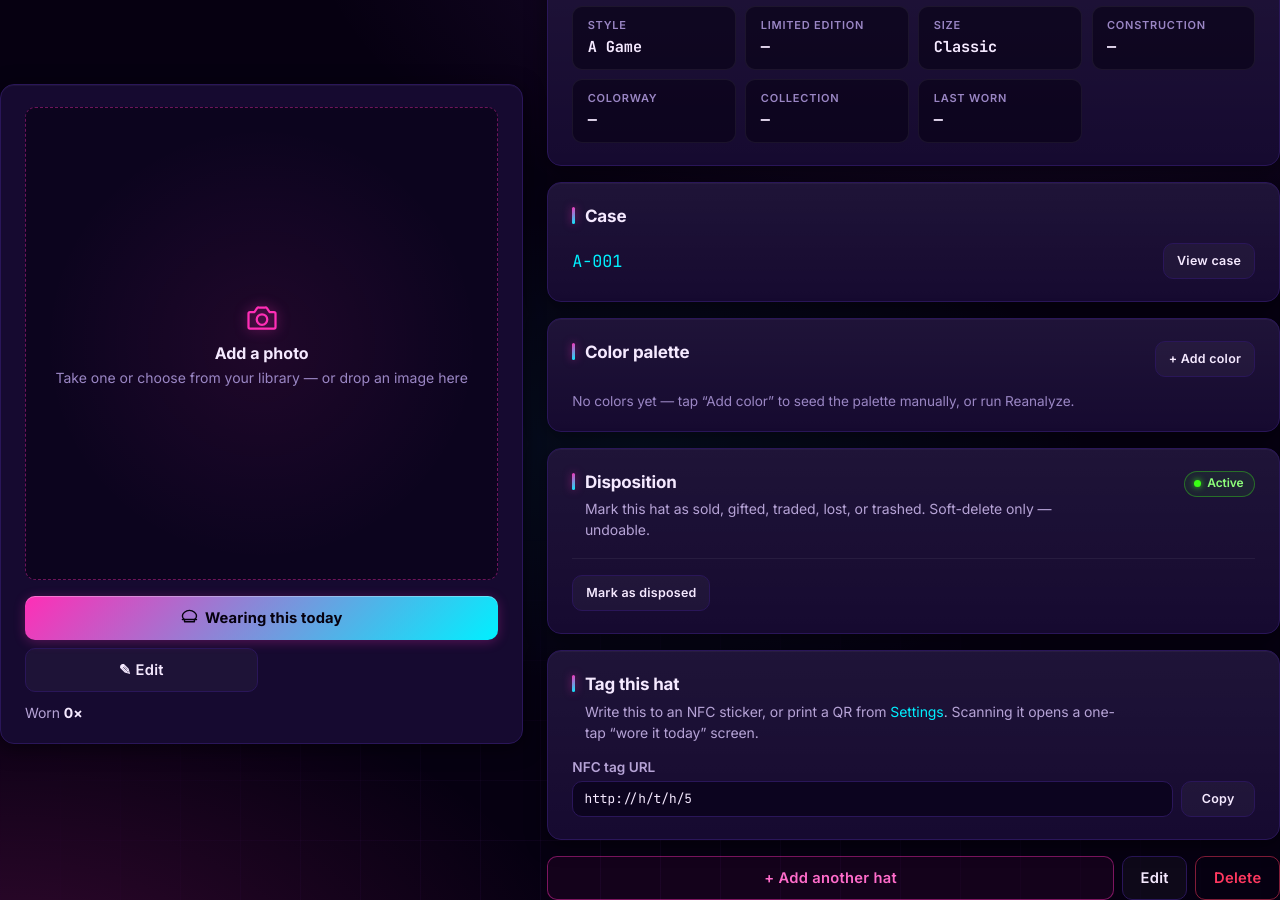
Test case: HatDetailPage — delete › deletes once confirmed, says so, and returns to the list
(page scrolled)
Click the button "Delete".
click(1238, 878)  # box [1195,856,1279,899]
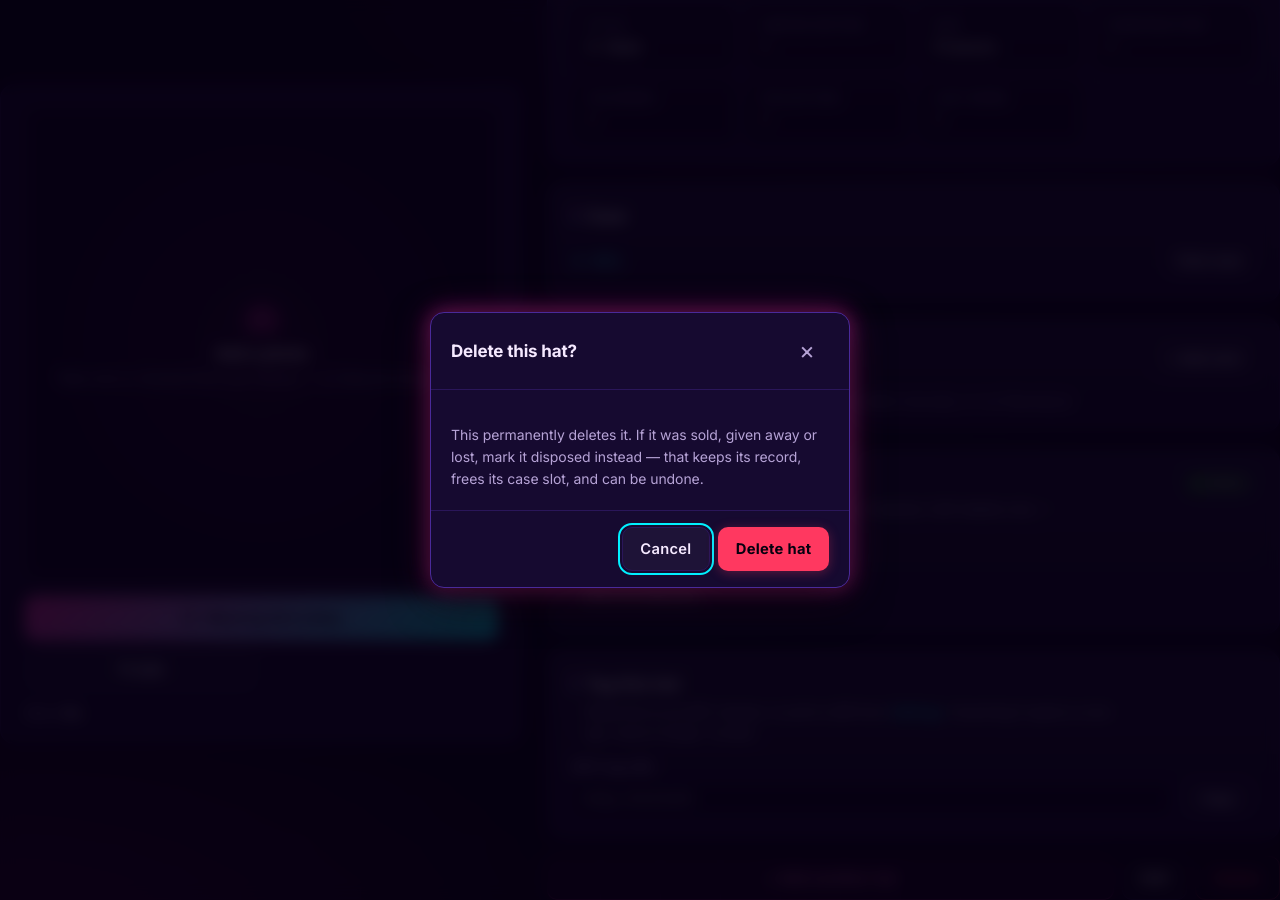
Click the button "Delete hat".
click(774, 548)  # box [718,526,829,570]
(page scrolled)
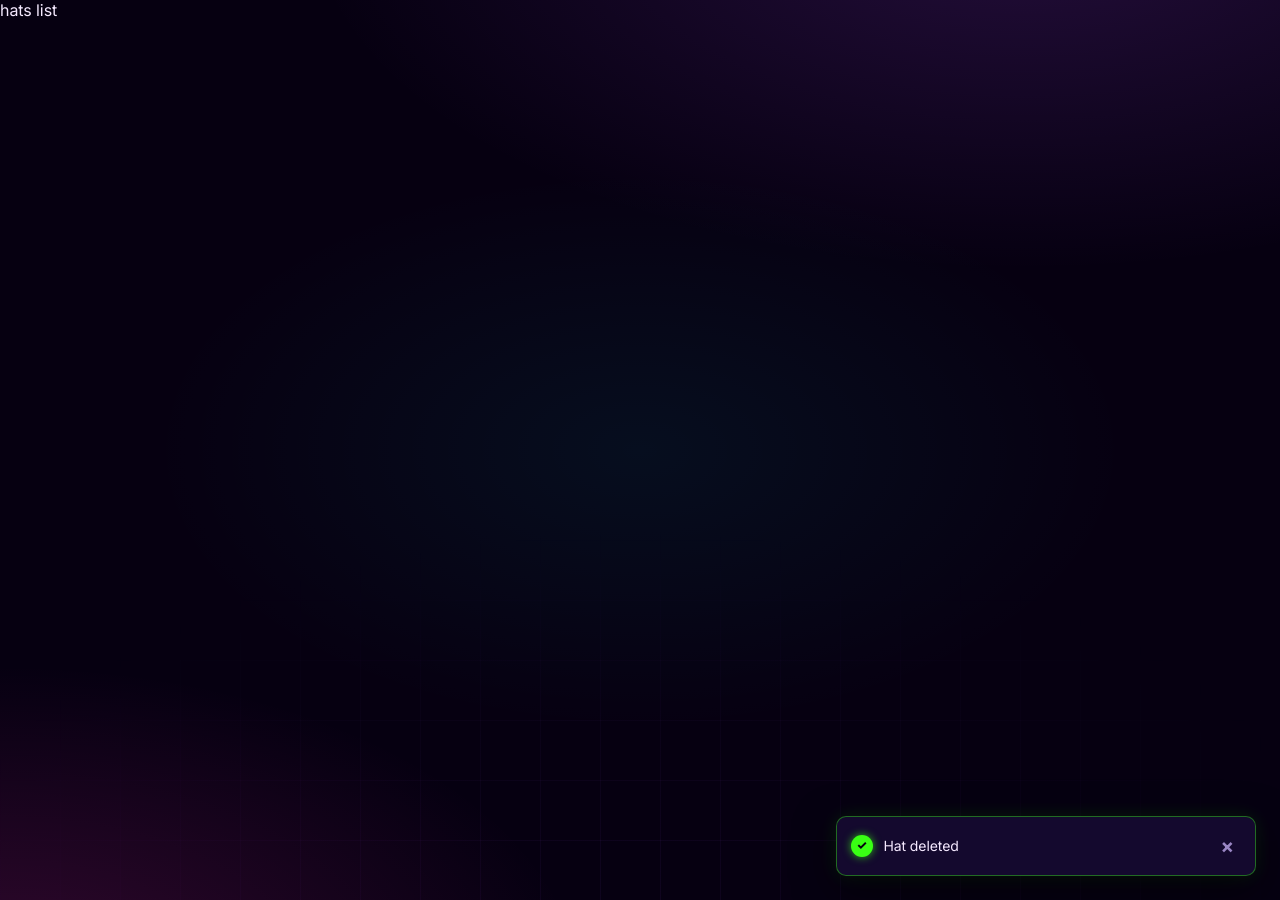
Expected: the text "hats list" is shown, [0,0,57,20]
Expected: the text "Hat deleted" is shown, [883,837,959,854]
